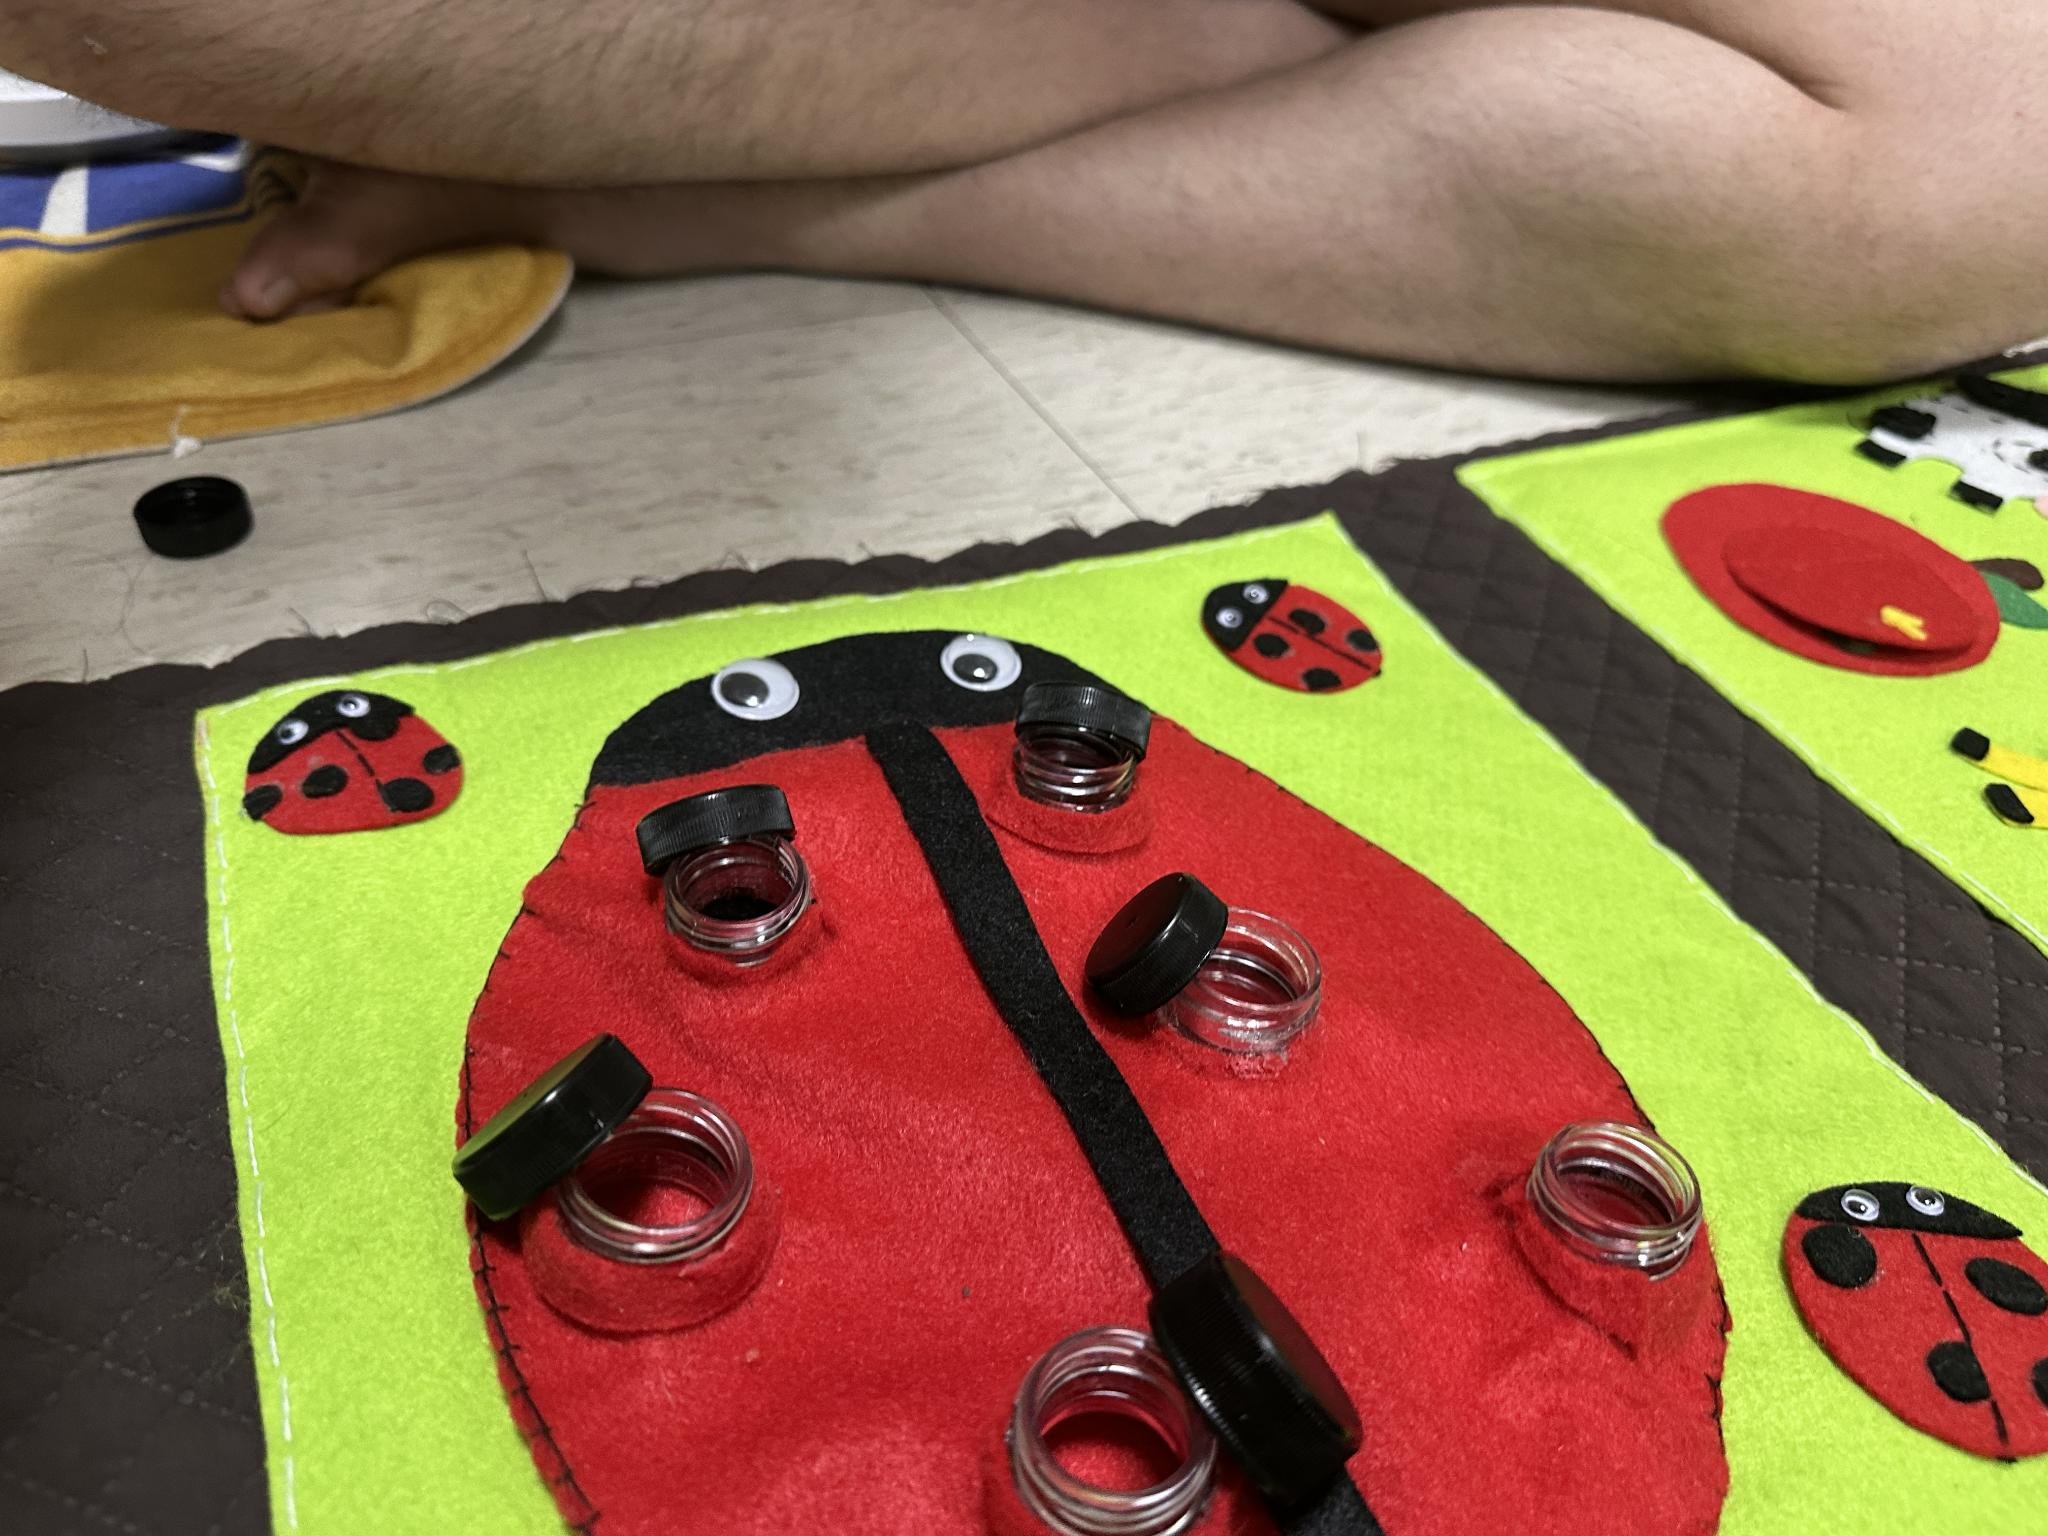cap_ng: (995, 1241, 1382, 1536), (445, 1016, 792, 1333), (1056, 855, 1337, 1104), (631, 773, 832, 999), (989, 662, 1185, 836)
